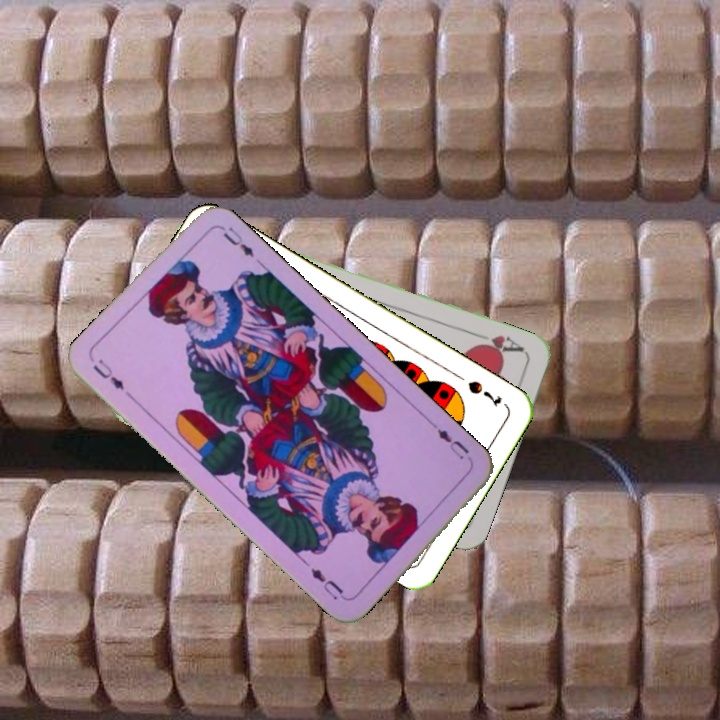EU: (428, 419, 472, 462), (88, 355, 127, 393)
HA: (470, 329, 527, 358)
S7: (463, 376, 505, 409)
